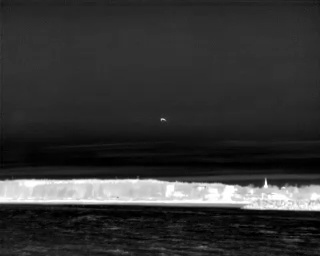BIRD: (158, 115, 168, 125)
